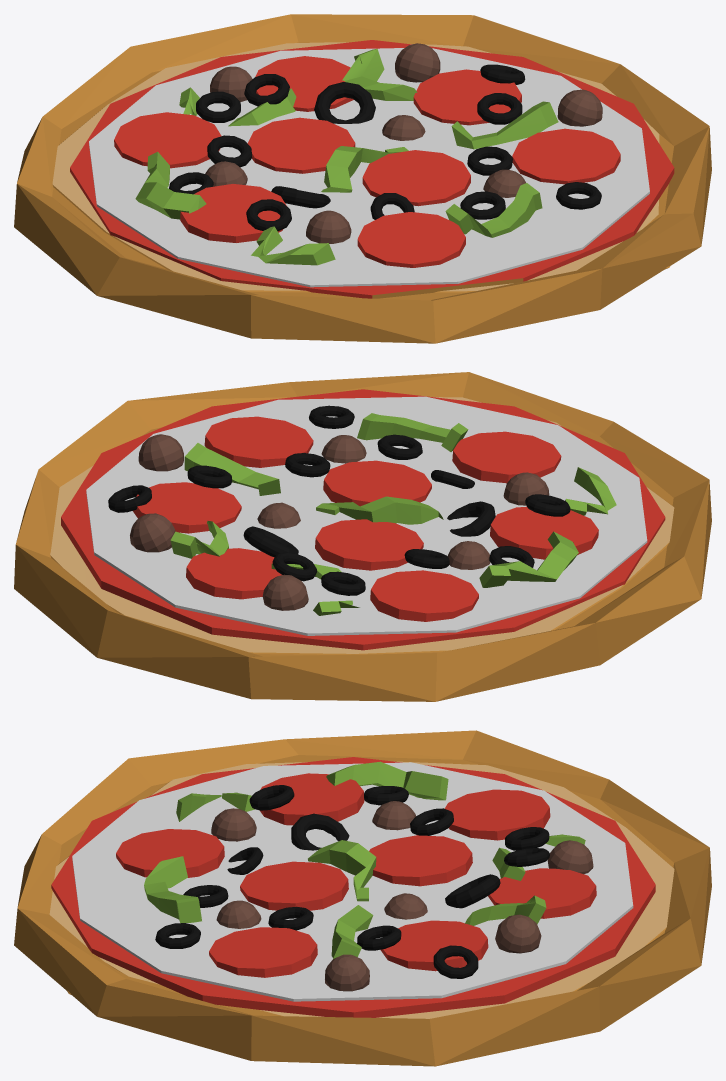
3 views of the same model, one above another, from view 1: azimuth 30°, elevation 25°; view 2: azimuth 150°, elevation 25°; view 3: azimuth 270°, elevation 25° (orthographic).
Parts seen in each view (by area): view 1: node_MeshObject24700352-PolyPaper19, node_MeshObject543420416-PolyPaper23; view 2: node_MeshObject24700352-PolyPaper19, node_MeshObject543420416-PolyPaper23; view 3: node_MeshObject24700352-PolyPaper19, node_MeshObject543420416-PolyPaper23.
Part boxes in pixels (bbox=[...]): node_MeshObject24700352-PolyPaper19: bbox=[52, 40, 674, 298]; node_MeshObject543420416-PolyPaper23: bbox=[14, 14, 711, 343]; node_MeshObject24700352-PolyPaper19: bbox=[50, 389, 674, 654]; node_MeshObject543420416-PolyPaper23: bbox=[14, 372, 711, 701]; node_MeshObject24700352-PolyPaper19: bbox=[49, 757, 674, 1018]; node_MeshObject543420416-PolyPaper23: bbox=[14, 730, 711, 1066].
Bounding box in the file's own units: 0.4504 × 0.0517 × 0.4504.
